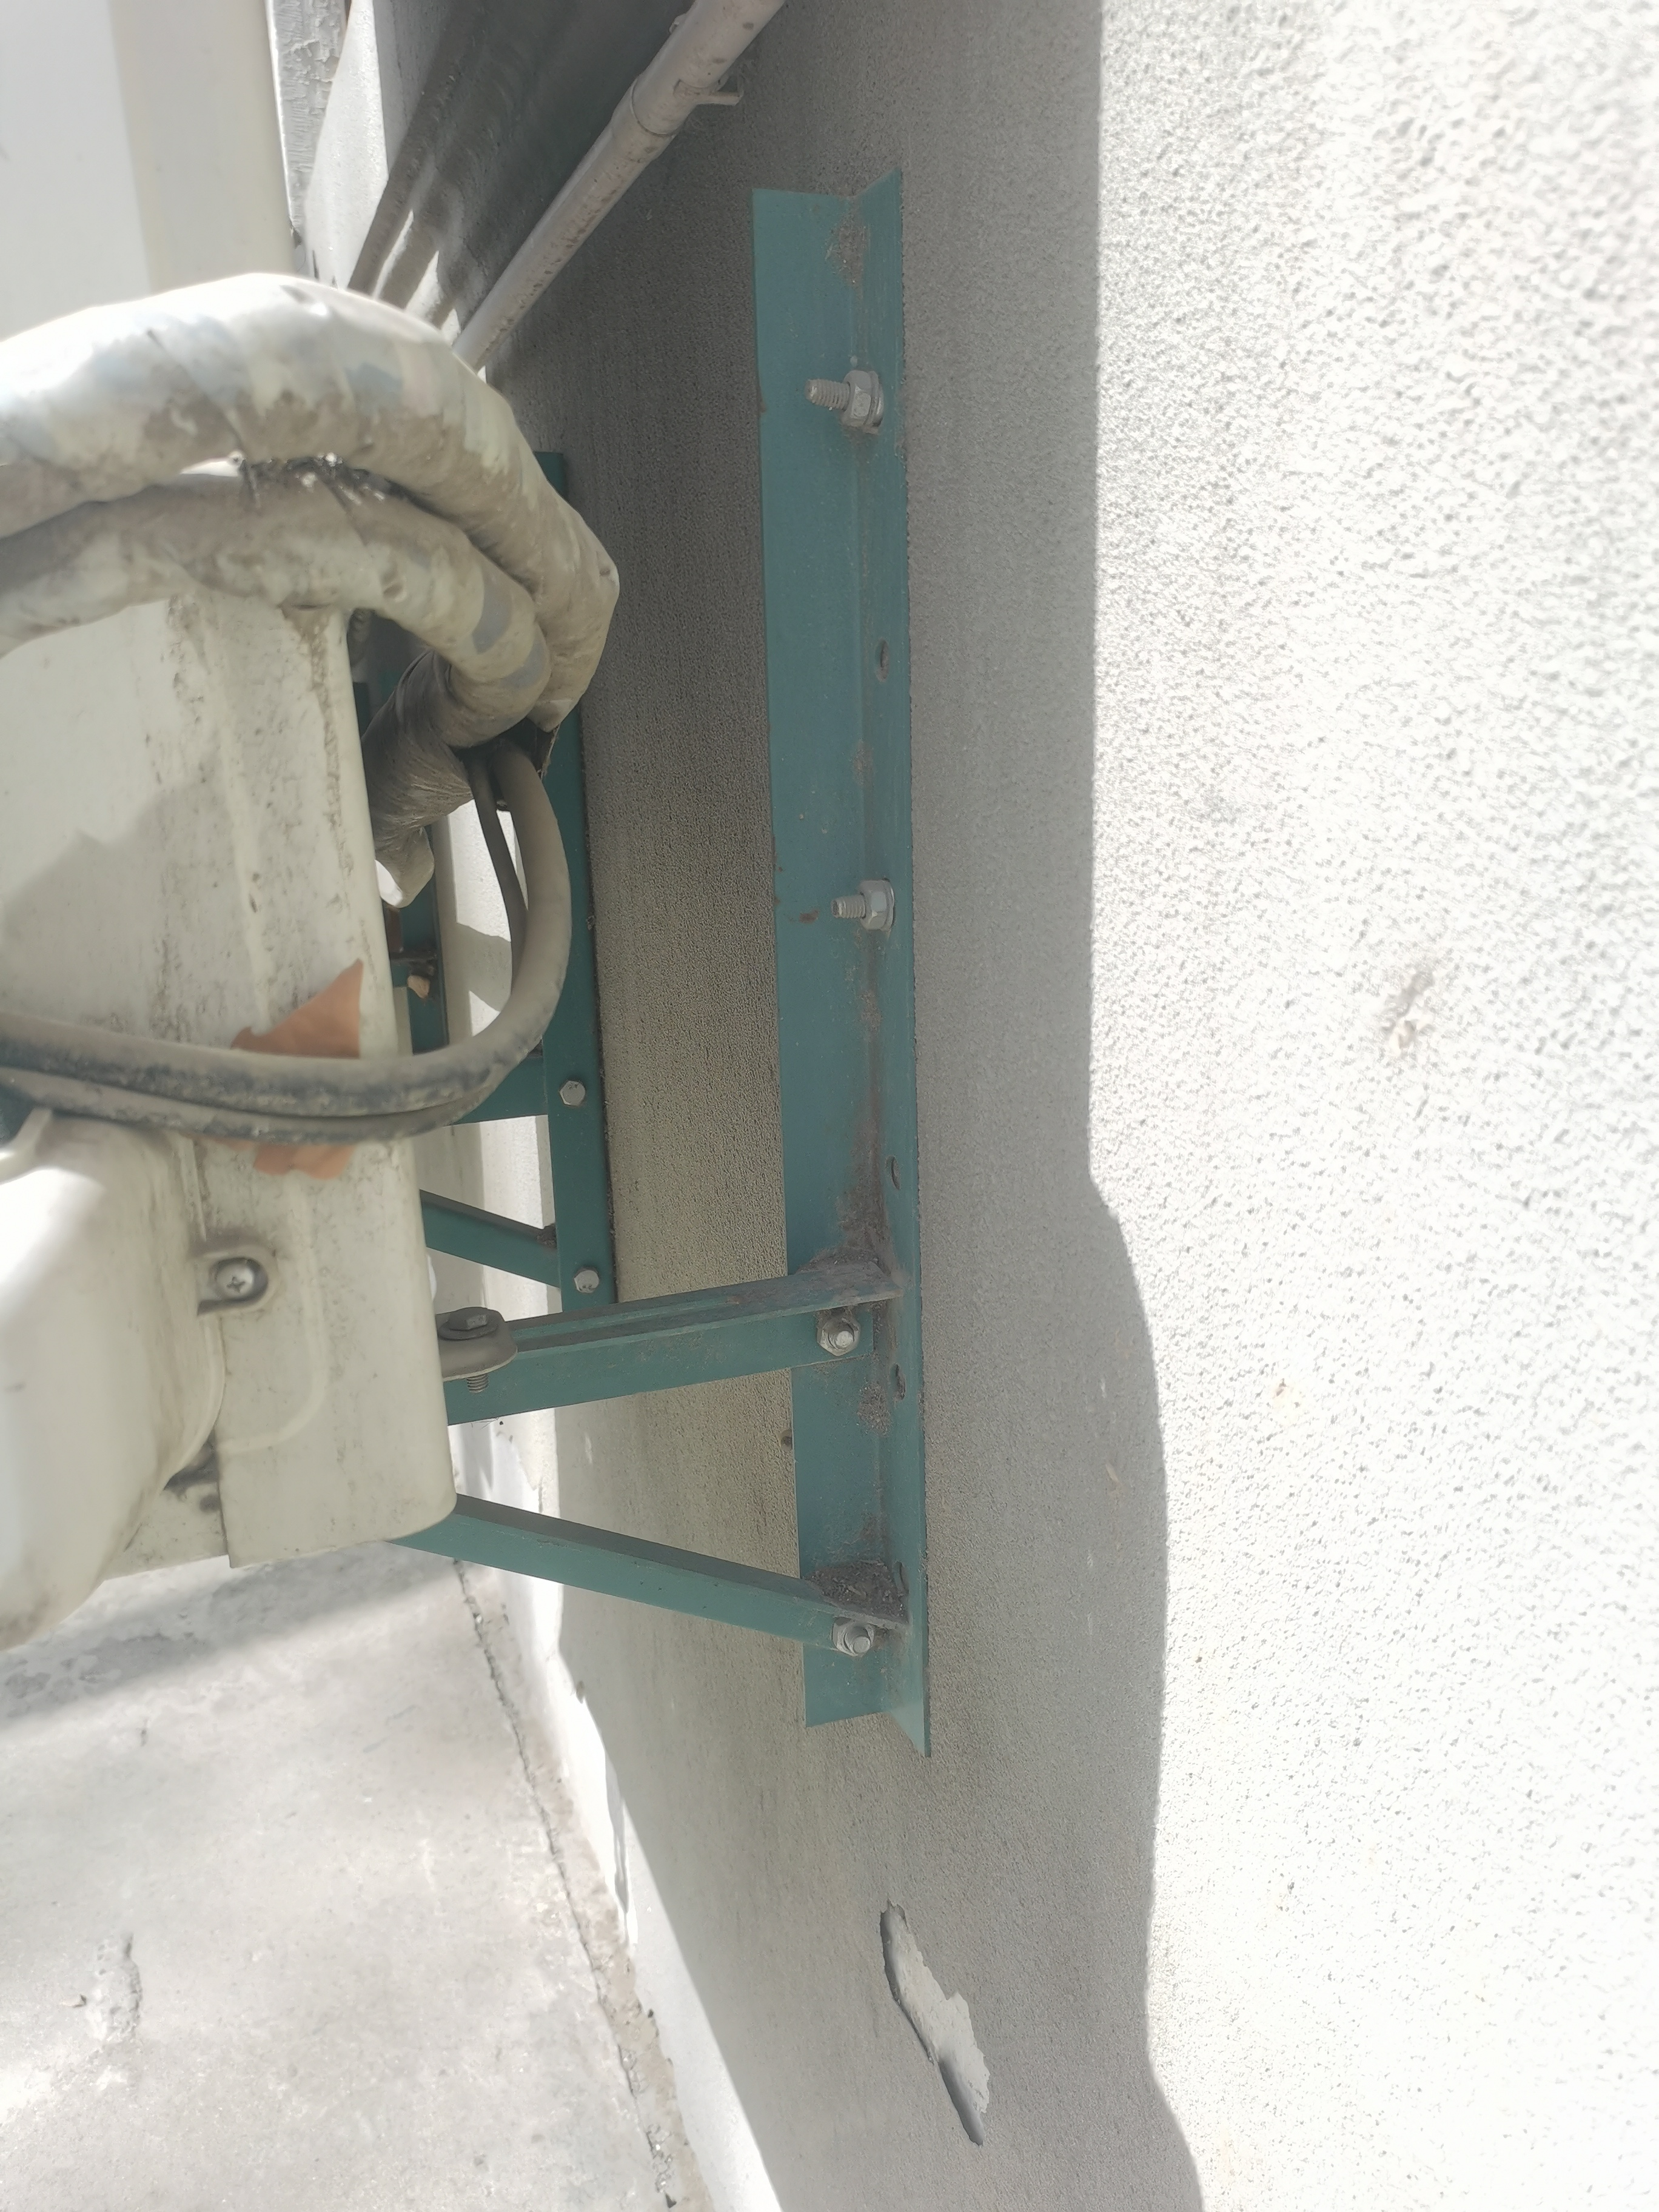bolt_a: (570, 1261, 603, 1298), (556, 1076, 591, 1109)
bolt_b: (812, 1305, 866, 1360), (829, 1611, 880, 1662)
bolt_c: (854, 878, 890, 934), (444, 1305, 491, 1334)
